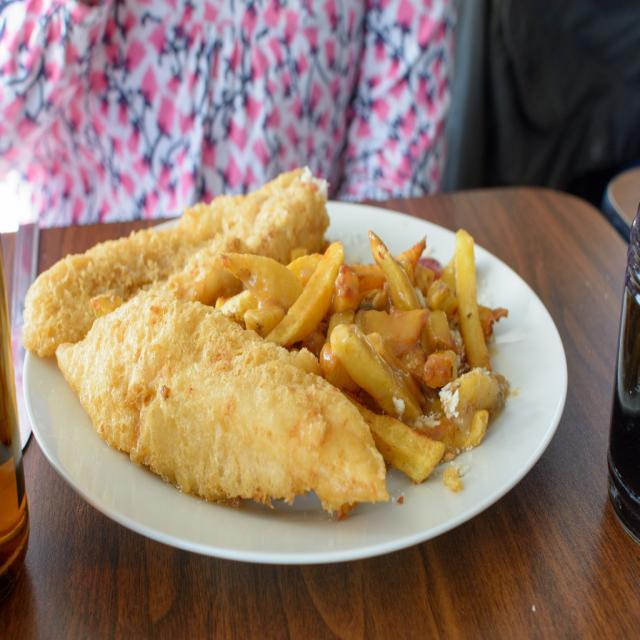French fries: (209, 202, 499, 480)
